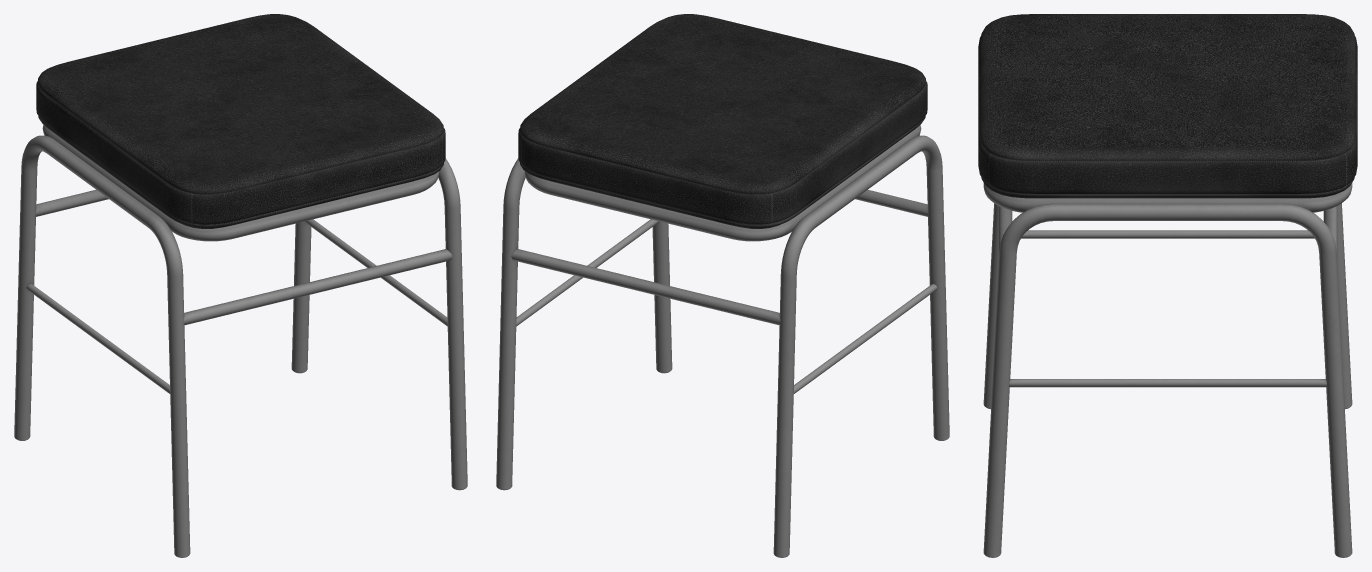
The model's file is ArcadeStool_50.FBX.
The picture shows the model from 3 angles, left to right: view 1: azimuth 30°, elevation 25°; view 2: azimuth 150°, elevation 25°; view 3: azimuth 270°, elevation 25°; orthographic projection. The views are drawn at different scales.
Parts seen in each view (by area): view 1: ArcadeStool_50; view 2: ArcadeStool_50; view 3: ArcadeStool_50.
Boxes of the visible parts, box(x1,y1,x2,y2) form: ArcadeStool_50: box(14, 14, 467, 557); ArcadeStool_50: box(496, 14, 949, 557); ArcadeStool_50: box(978, 14, 1357, 557).
Bounding box in the file's own units: 42 × 50.08 × 43.2.
